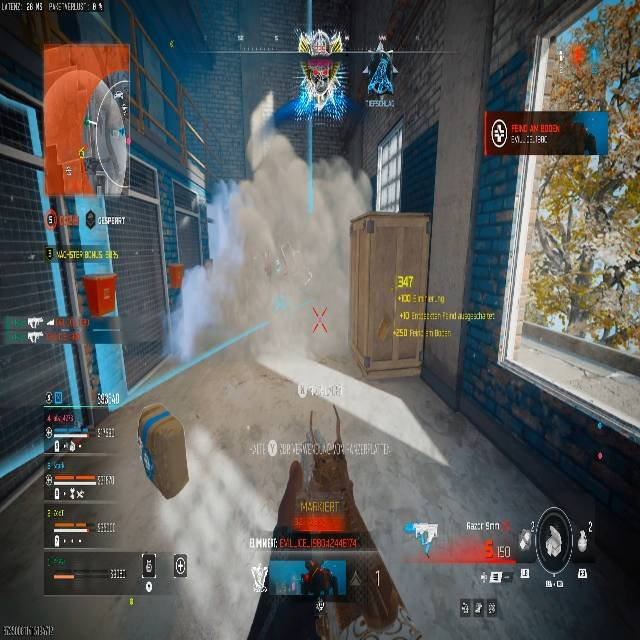player: (263, 558, 340, 639)
